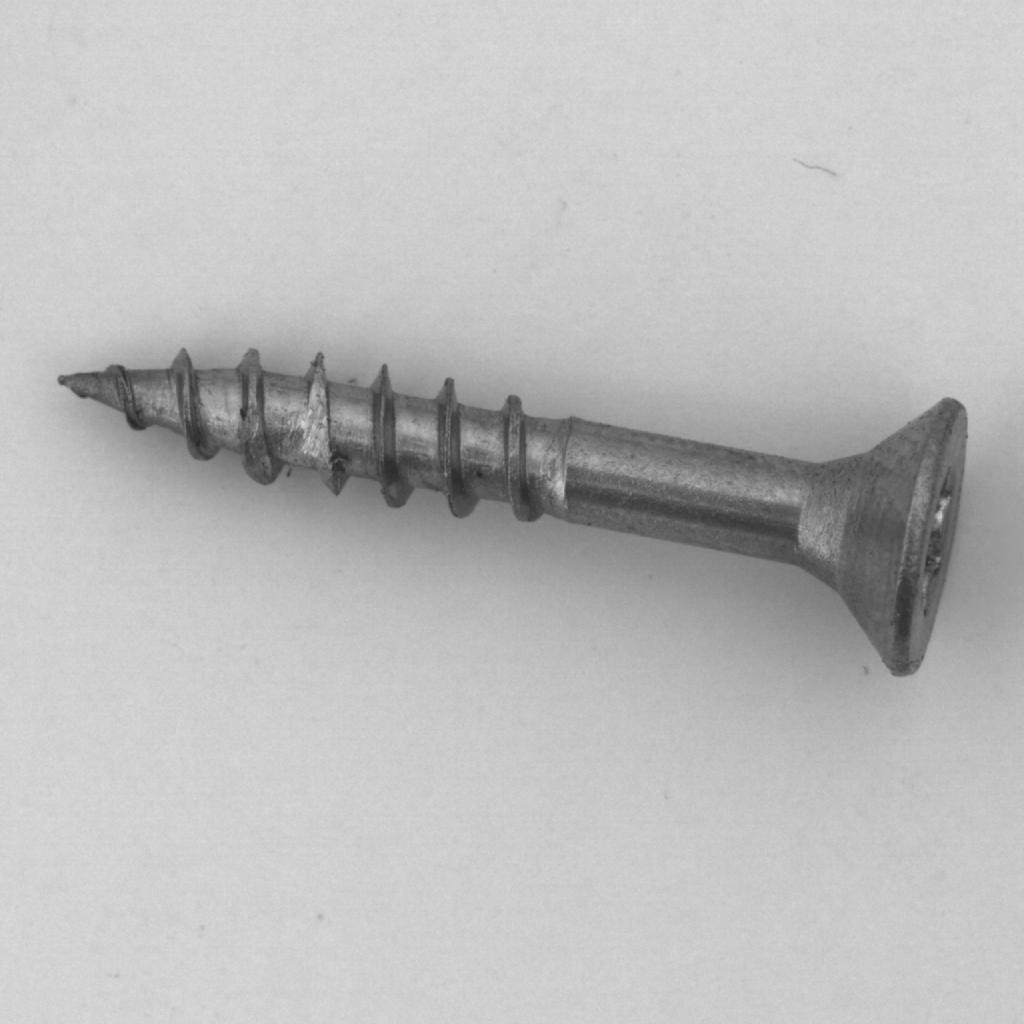bad: (90, 203, 971, 832)
